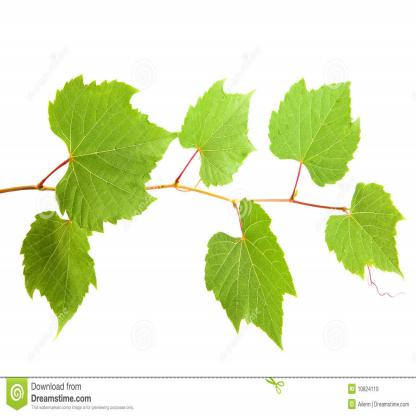grape leaf: (48, 73, 179, 227), (199, 198, 298, 354), (261, 71, 363, 187), (10, 221, 99, 342), (176, 79, 260, 190), (322, 180, 406, 285)
